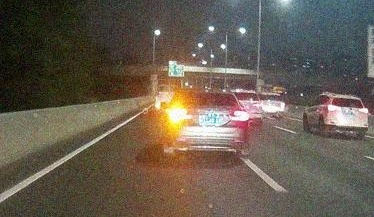L_light: (166, 108, 188, 121), (326, 104, 338, 112)
R_light: (228, 109, 248, 122), (359, 108, 368, 114)
T_light: (199, 92, 214, 97), (343, 97, 351, 100)
night-left: (164, 89, 249, 158)
night-no: (324, 94, 369, 138)
